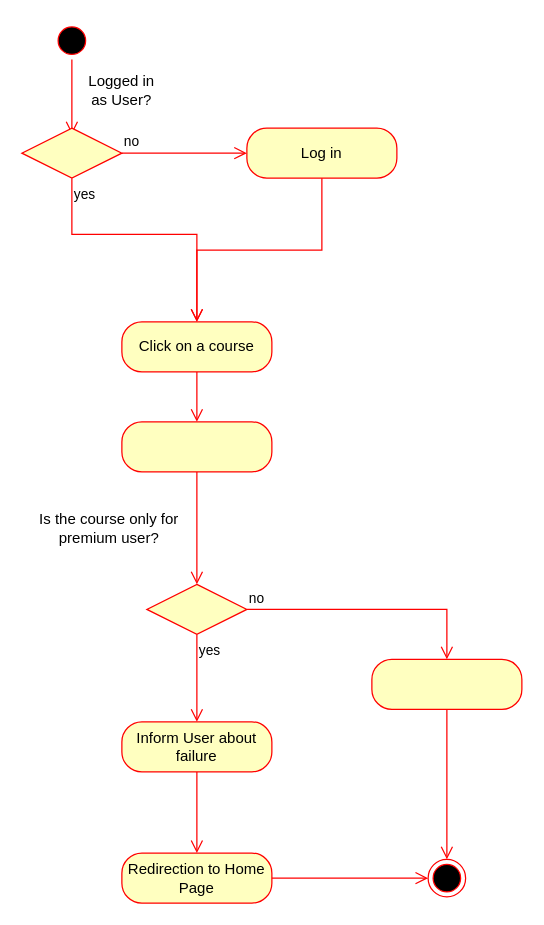
Image size: 544x925. Some labels were removed from this diagram. The box of each missing label's shape, as (x1, y1, x2, y2) in pixels:
Click "Enroll": (121, 421, 272, 472)
Inform User about success: (371, 658, 522, 709)
